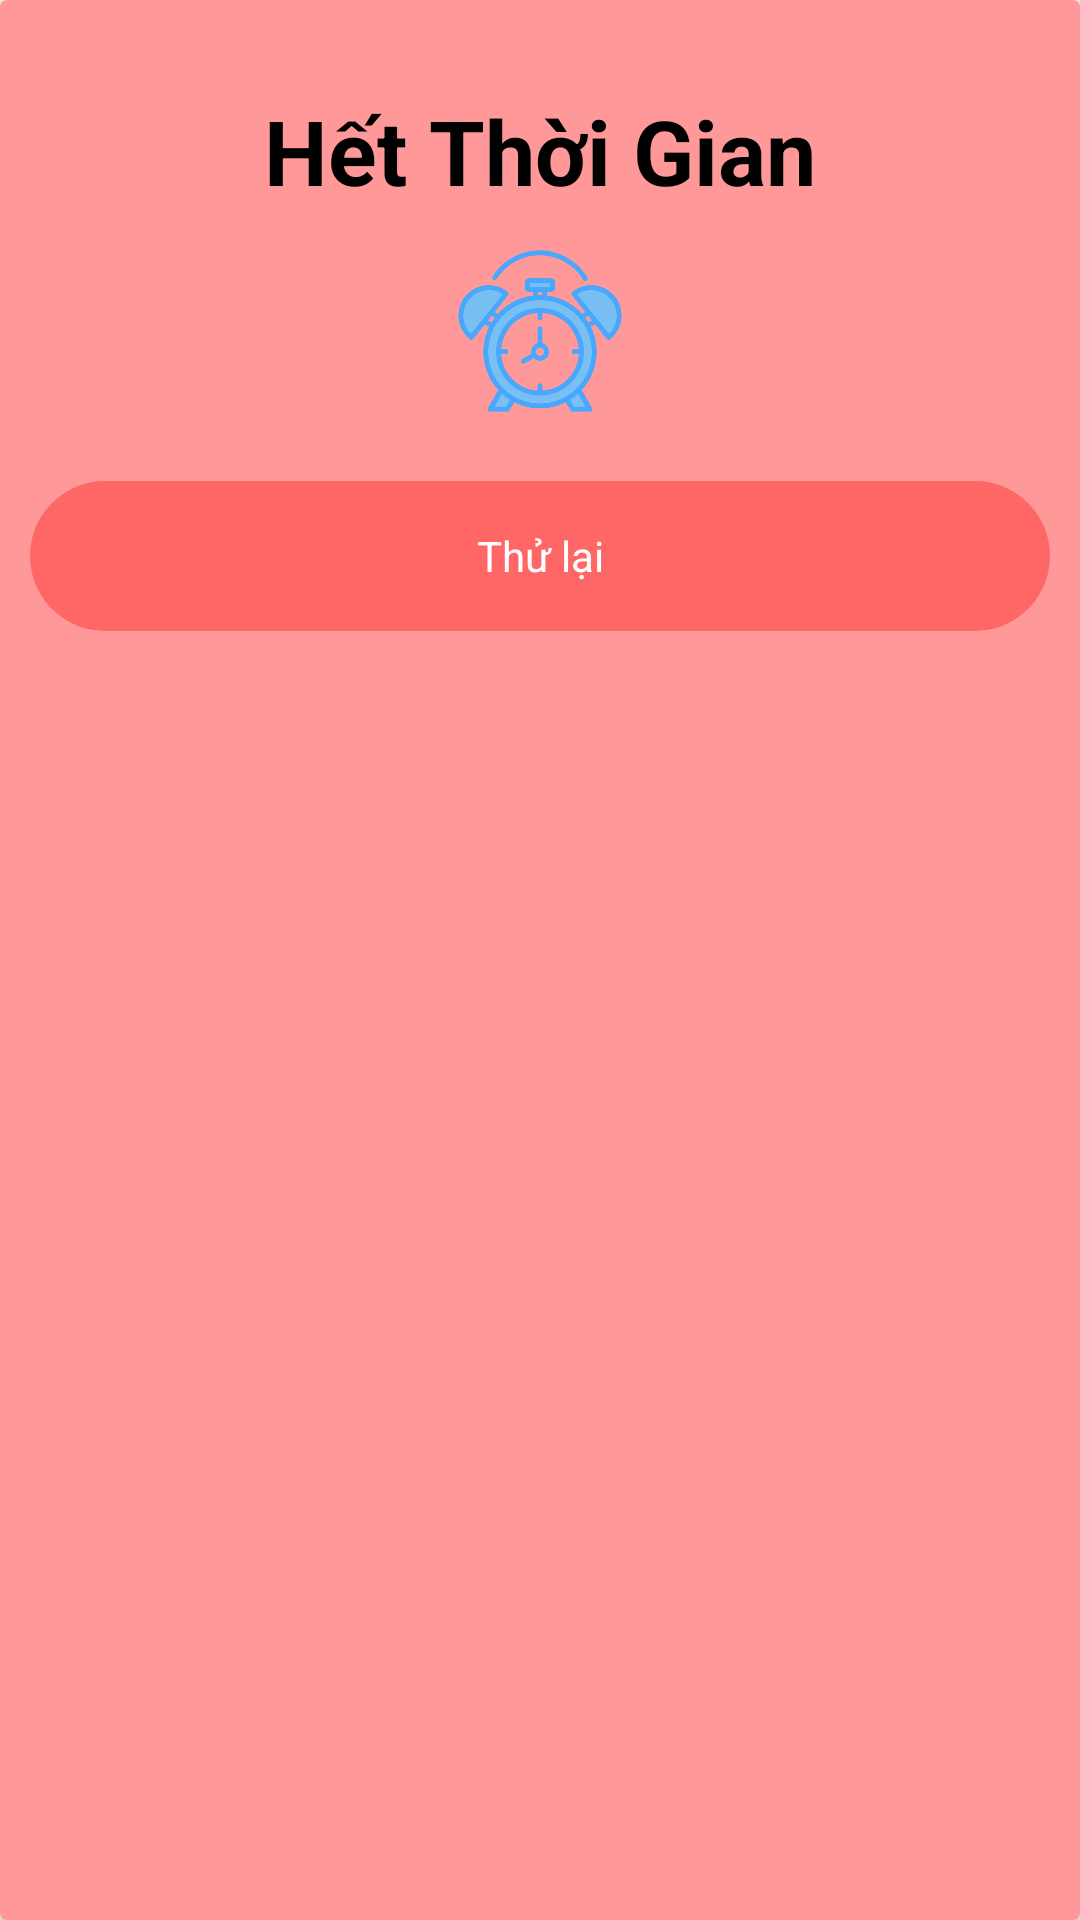

Named icons in this screenshot (1080 x 1920) and their bounding boxes, (x1, y1, x2, y2):
timer: (458, 250, 622, 412)
